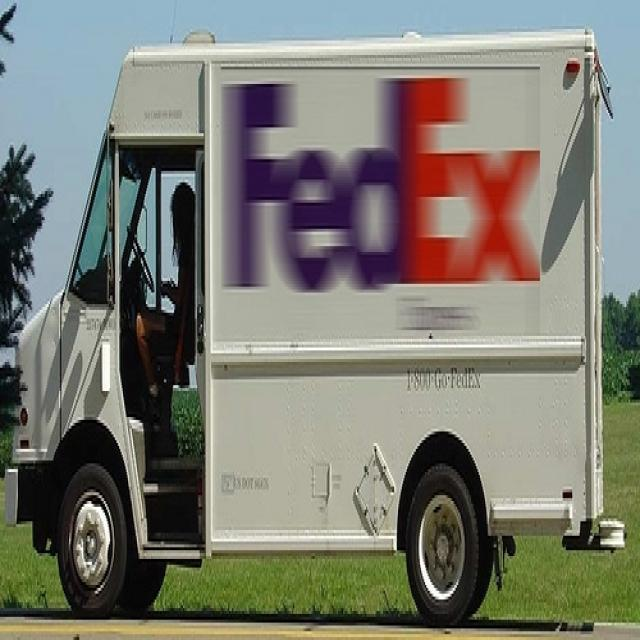fedex: (219, 80, 544, 297)
